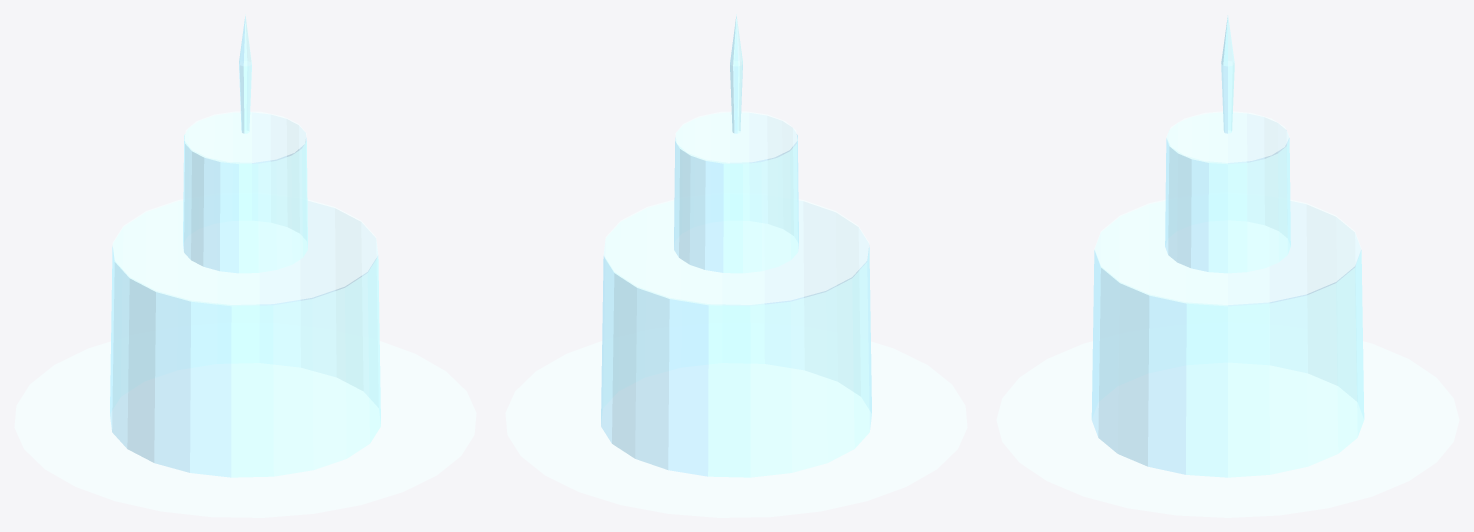
File: SM_fountain_water.glb
The picture shows the model from 3 angles, left to right: view 1: azimuth 30°, elevation 25°; view 2: azimuth 150°, elevation 25°; view 3: azimuth 270°, elevation 25°; orthographic projection.
Parts seen in each view (by area): view 1: SM_fountain_water; view 2: SM_fountain_water; view 3: SM_fountain_water.
Boxes of the visible parts, x1,y1,x2,y2 form: SM_fountain_water: [14, 14, 476, 517]; SM_fountain_water: [505, 14, 967, 517]; SM_fountain_water: [996, 15, 1459, 517].
Size of the model in its own units: 6.76 by 6.54 by 6.76.
1 material, 1 textured.
